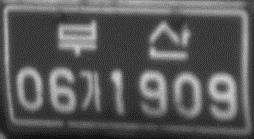0: (172, 70, 203, 120), (15, 65, 45, 113)
1: (108, 66, 129, 117)
6: (48, 65, 77, 112)
9: (207, 71, 239, 122), (138, 68, 169, 119)
가: (77, 68, 104, 113)
부산_D: (56, 19, 192, 61)
